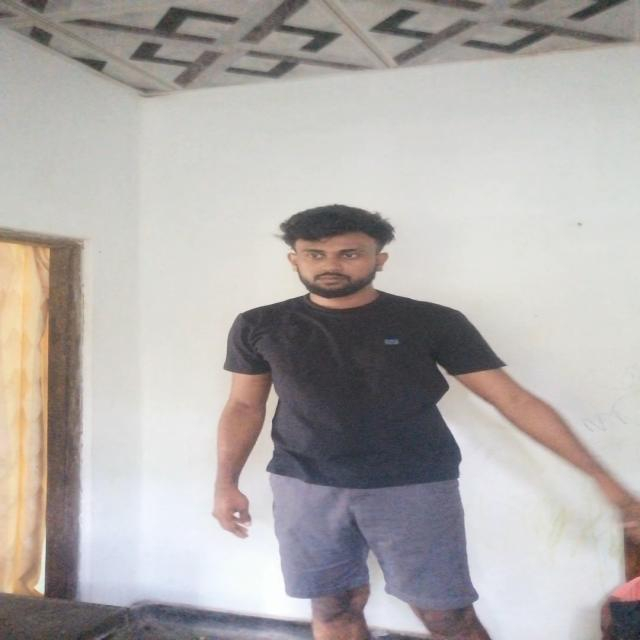Person: (210, 204, 504, 640)
